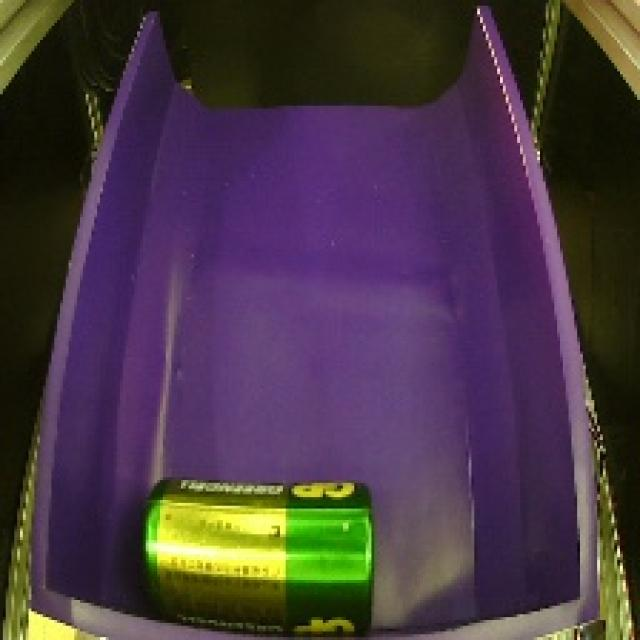battery: (131, 460, 384, 640)
